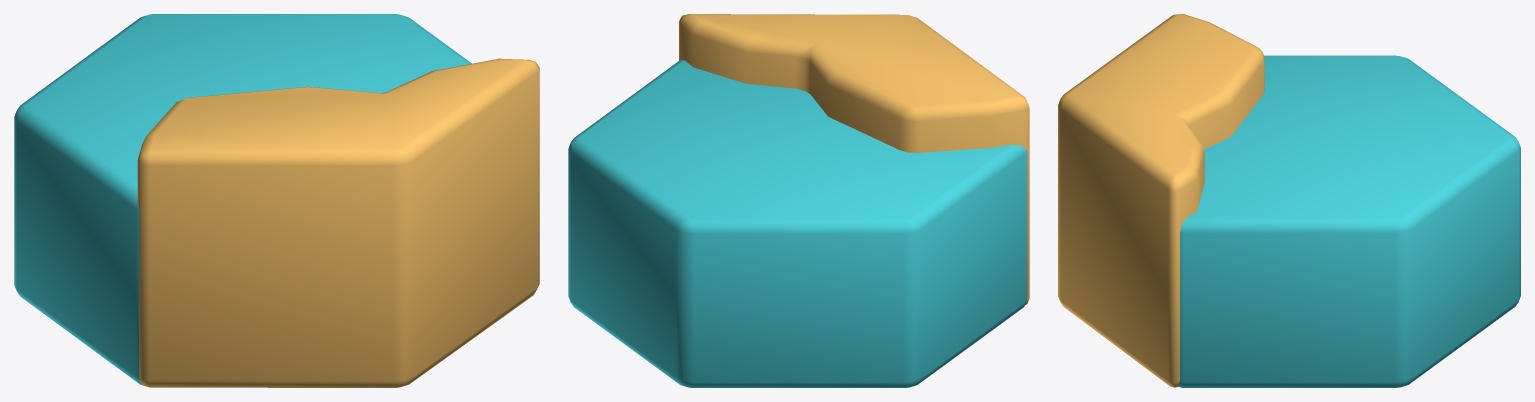
The model's file is sand_water3.glb.
3 renders of one model, left to right at view 1: azimuth 30°, elevation 25°; view 2: azimuth 150°, elevation 25°; view 3: azimuth 270°, elevation 25°, orthographic. The views are drawn at different scales.
Visible parts, largest first — view 1: sand_water3; view 2: sand_water3; view 3: sand_water3.
Part boxes in pixels (x1=…): sand_water3: x1=14, y1=14, x2=539, y2=387; sand_water3: x1=568, y1=14, x2=1029, y2=387; sand_water3: x1=1058, y1=14, x2=1520, y2=387.
Size of the model in its own units: 6.97 by 4 by 7.9.
